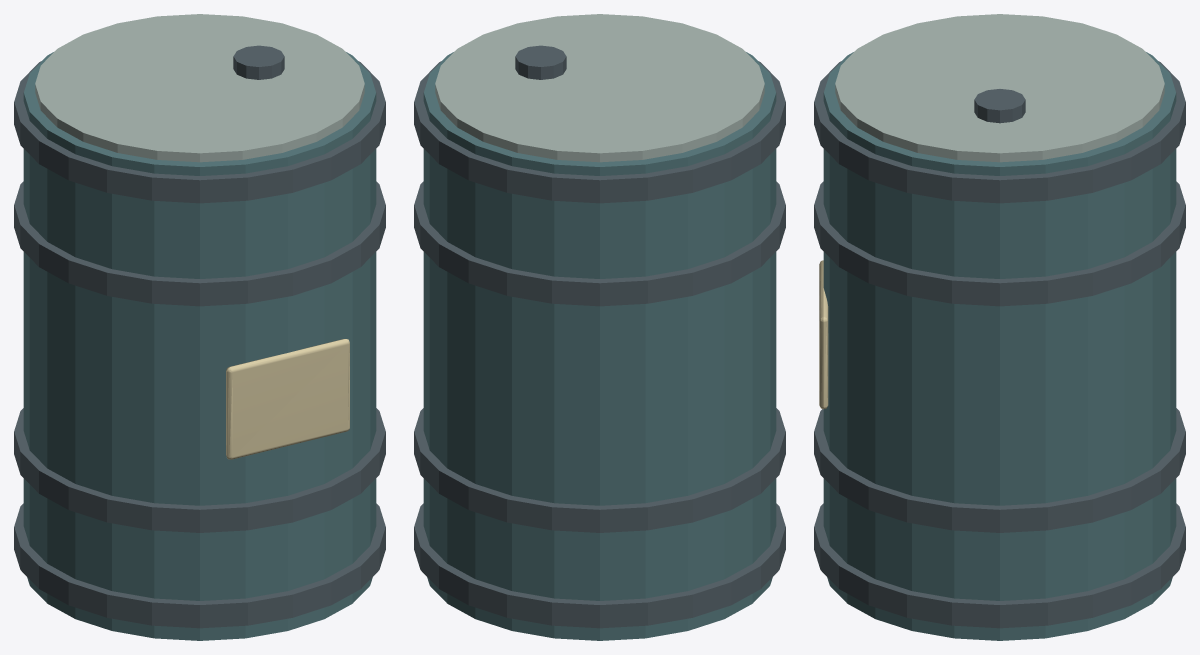
The model's file is barrel.glb.
3 renders of one model, left to right at view 1: azimuth 30°, elevation 25°; view 2: azimuth 150°, elevation 25°; view 3: azimuth 270°, elevation 25°, orthographic.
Visible parts, largest first — view 1: Keep_Mesh; view 2: Keep_Mesh; view 3: Keep_Mesh.
Part boxes in pixels (bbox=[...]): Keep_Mesh: bbox=[14, 14, 385, 640]; Keep_Mesh: bbox=[414, 14, 785, 640]; Keep_Mesh: bbox=[814, 14, 1185, 640].
Size of the model in its own units: 0.654 by 0.9625 by 0.654.
